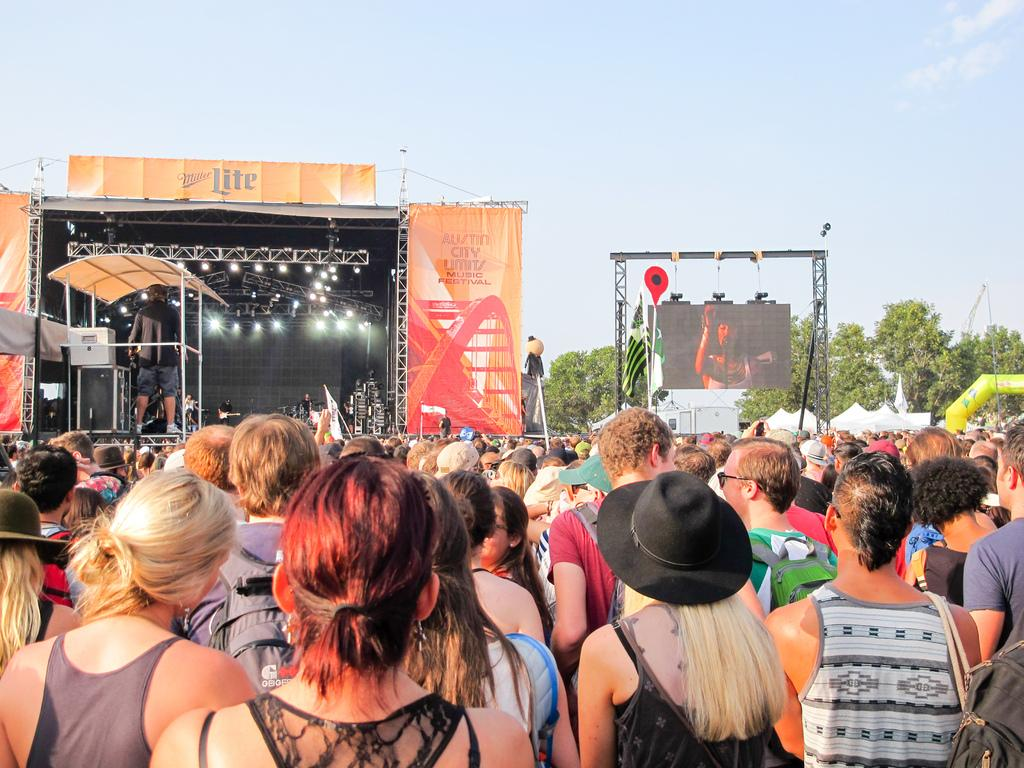Hat: (598, 464, 752, 604), (0, 486, 67, 558), (429, 439, 474, 481), (558, 456, 612, 491), (798, 439, 826, 461)
